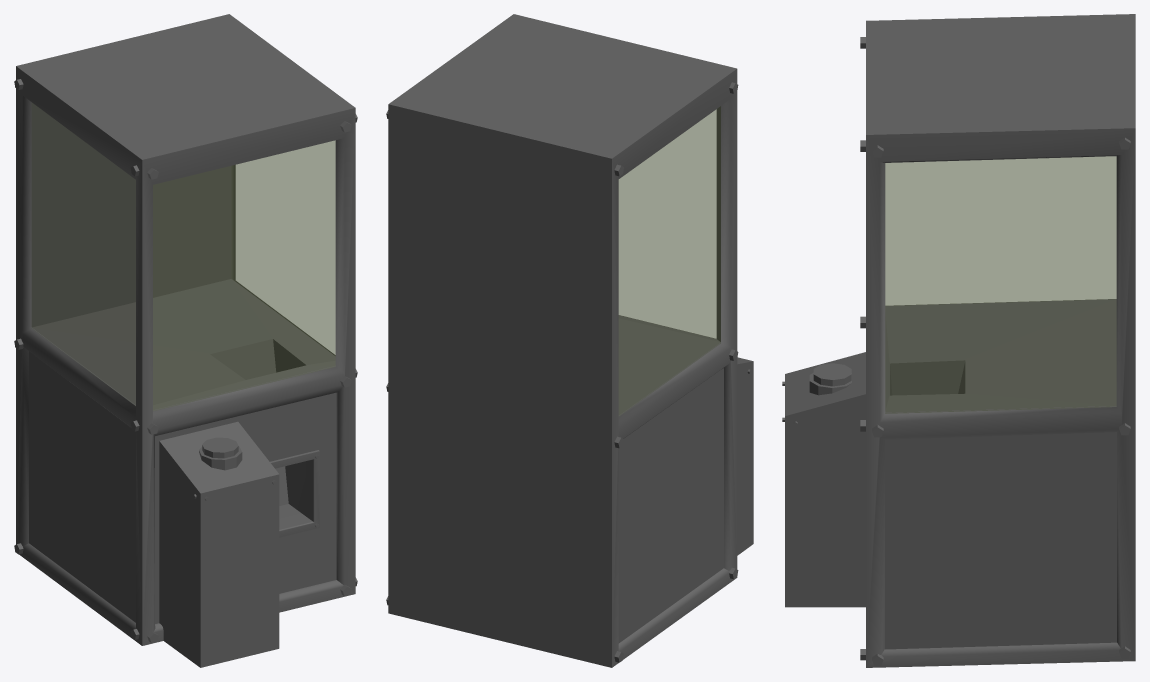
File: TD_Model_ClawMachine.fbx
3 renders of one model, left to right at view 1: azimuth 30°, elevation 25°; view 2: azimuth 150°, elevation 25°; view 3: azimuth 270°, elevation 25°, orthographic. The views are drawn at different scales.
Parts seen in each view (by area): view 1: MetalFrame, Glass, WoodenParts, pCube1, StartBuddon, BuddonBase; view 2: MetalFrame, WoodenParts, Glass, pCube1; view 3: WoodenParts, MetalFrame, Glass, pCube1, StartBuddon.
Part boxes in pixels (bbox=[...]): MetalFrame: bbox=[16, 14, 355, 645]; Glass: bbox=[32, 103, 335, 410]; WoodenParts: bbox=[29, 279, 336, 623]; pCube1: bbox=[159, 421, 279, 667]; StartBuddon: bbox=[202, 437, 238, 458]; BuddonBase: bbox=[199, 446, 242, 470]; MetalFrame: bbox=[388, 14, 737, 667]; WoodenParts: bbox=[618, 315, 723, 643]; Glass: bbox=[618, 106, 720, 415]; pCube1: bbox=[737, 357, 753, 555]; WoodenParts: bbox=[885, 299, 1116, 649]; MetalFrame: bbox=[866, 14, 1135, 667]; Glass: bbox=[885, 156, 1116, 413]; pCube1: bbox=[785, 352, 865, 607]; StartBuddon: bbox=[813, 363, 851, 386].
Size of the model in its own units: 10.56 by 21.97 by 13.09.
